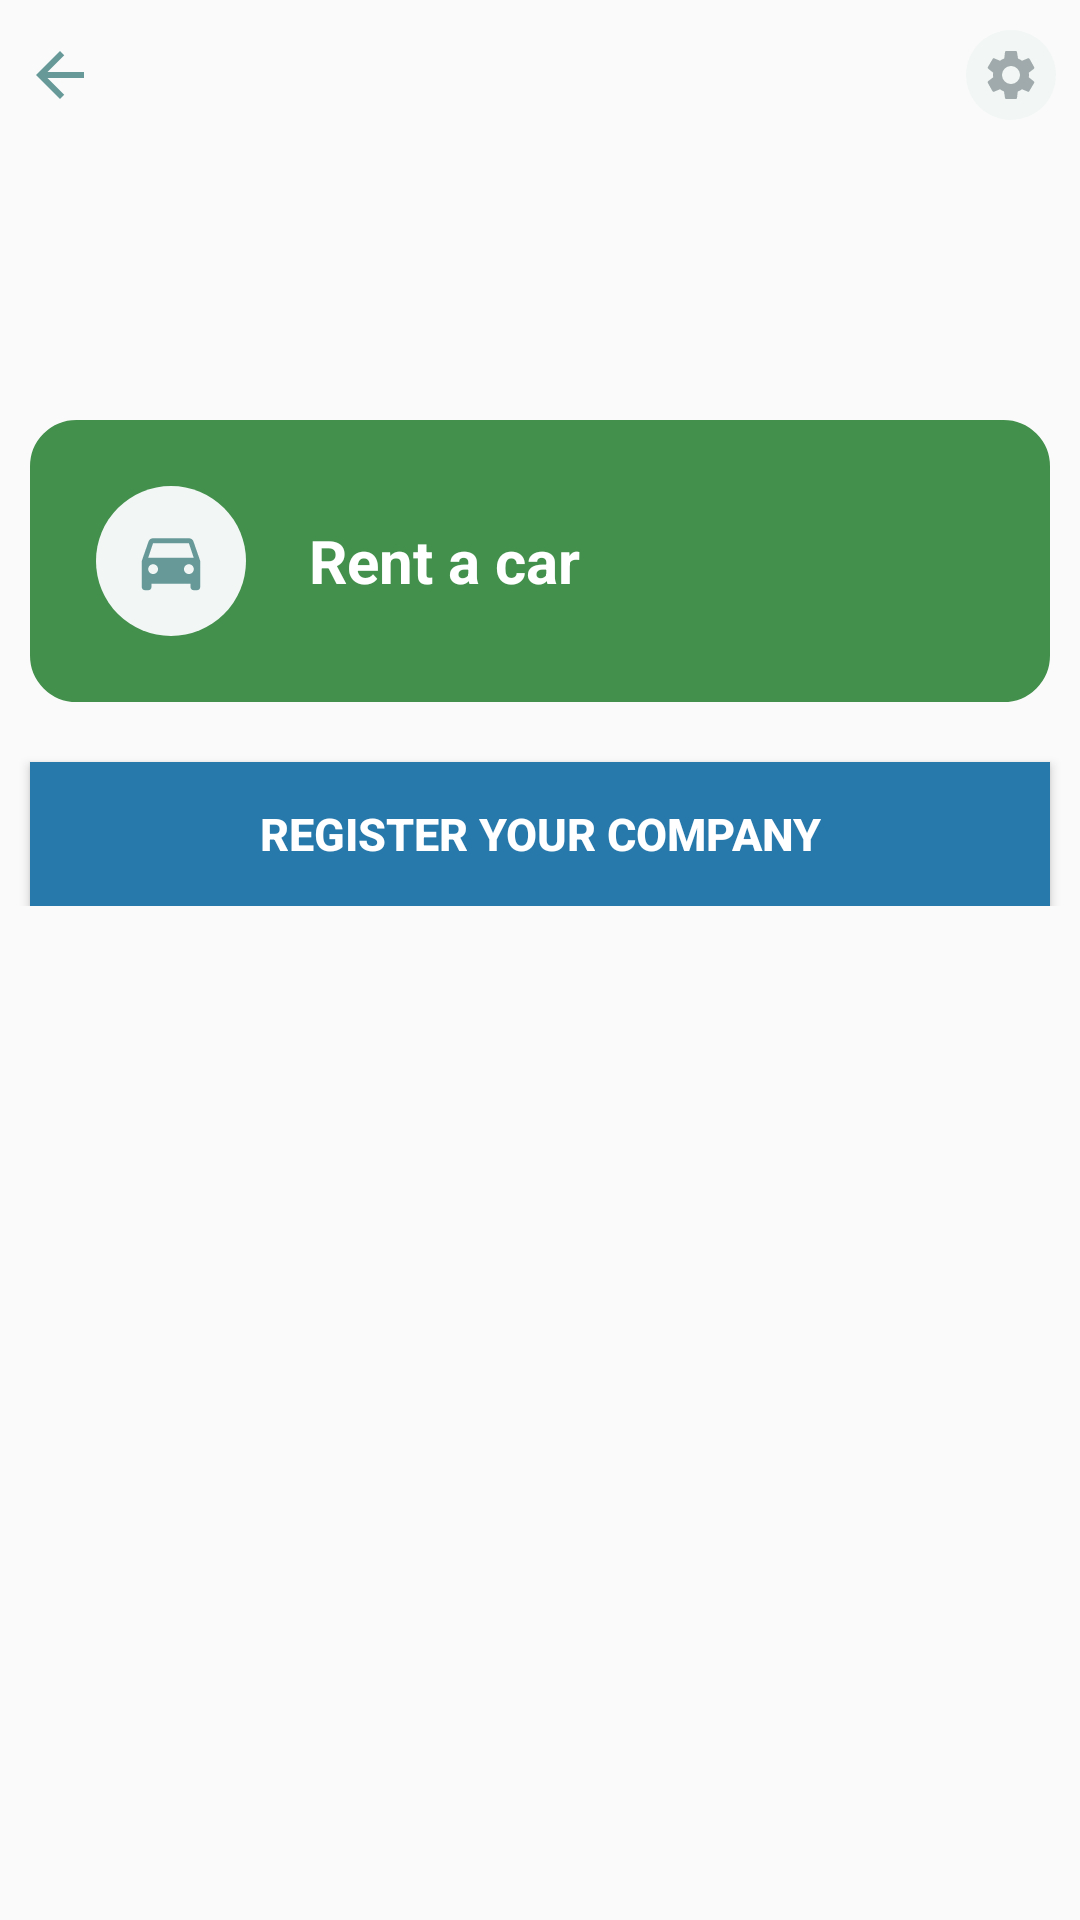

Screen size 1080w x 1920h. Icon name, then its center in pixels as [x,y]:
directions car: [171,561]
settings: [1011,75]
